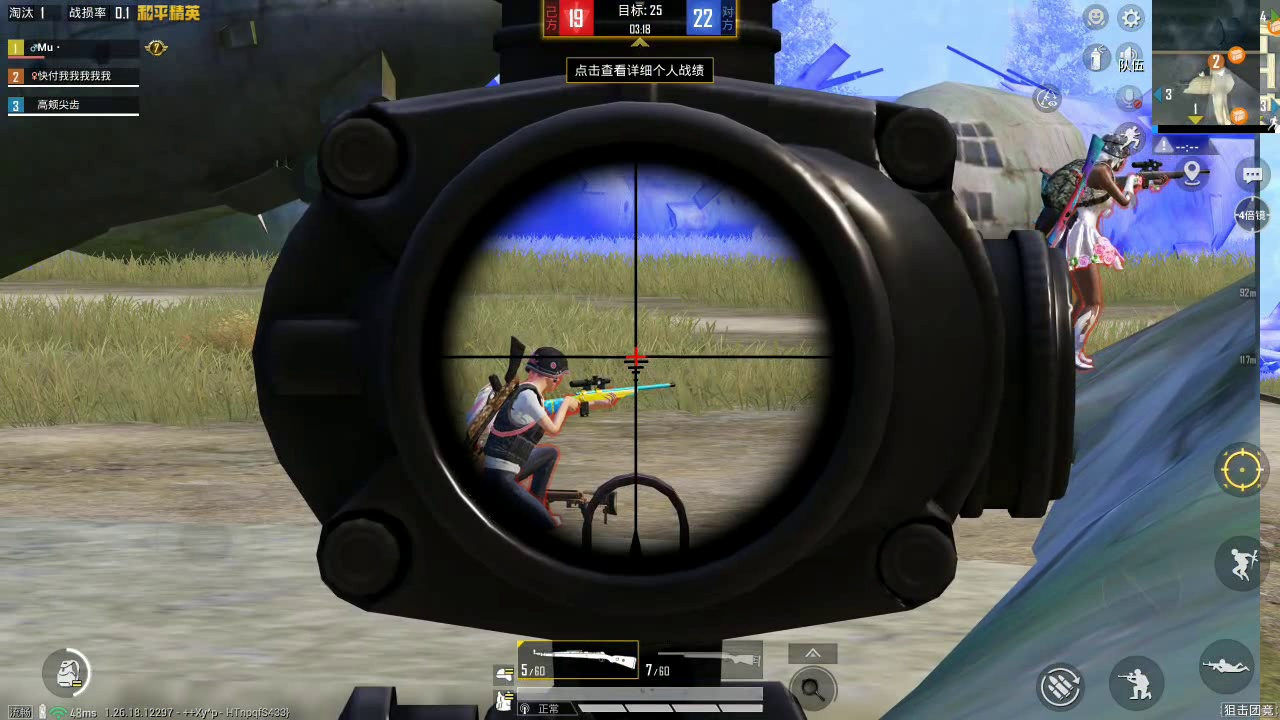enemy: (1046, 135, 1129, 375), (478, 346, 571, 529)
